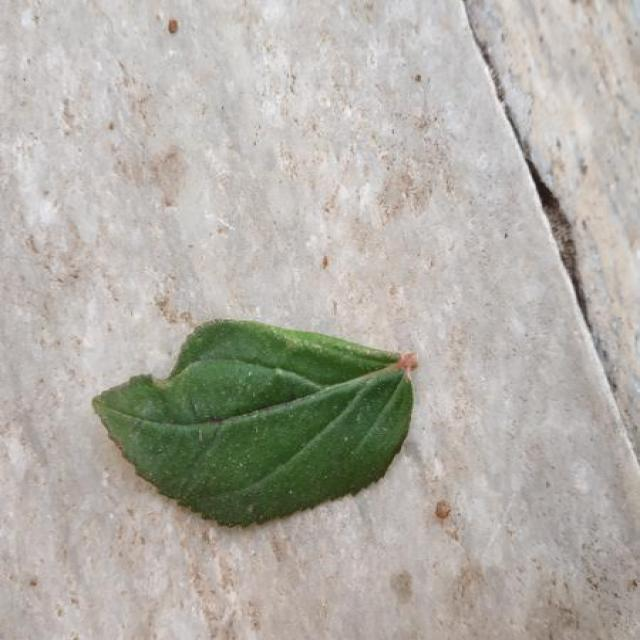Astma_weed: (93, 320, 417, 525)
